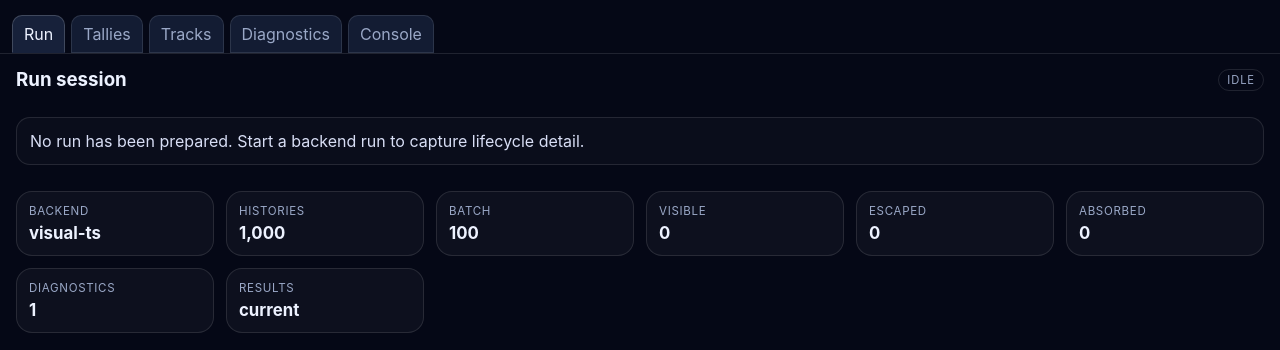
Test case: RunPanel tabs › shows the actual malformed-stream diagnostic instead of claiming no result arrived
The width and height of the screenshot is (1280, 350).
Click the tab "tallies" at (107, 34), box [71,15,143,53]
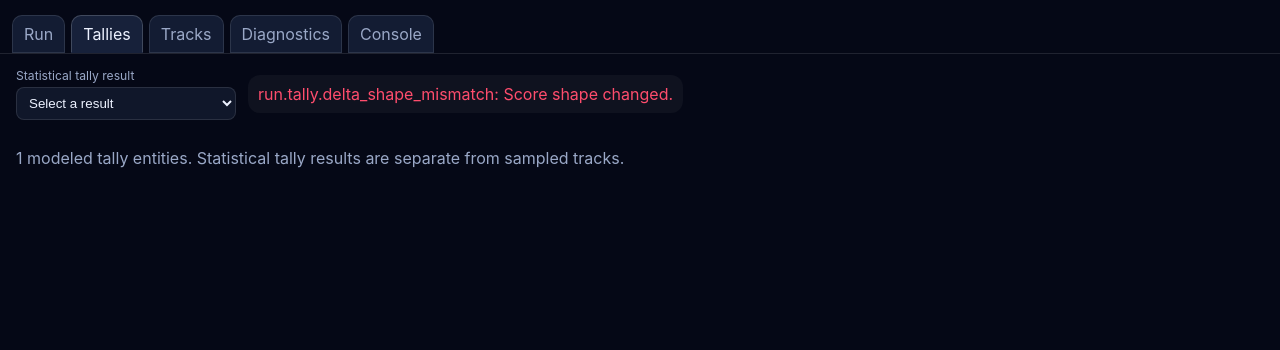
Expected: the panel does not show "No statistical tally results have arrived.", [16,68,683,168]
Expected: the panel shows "run.tally.delta_shape_mismatch: Score shape changed.", [258,84,673,104]
